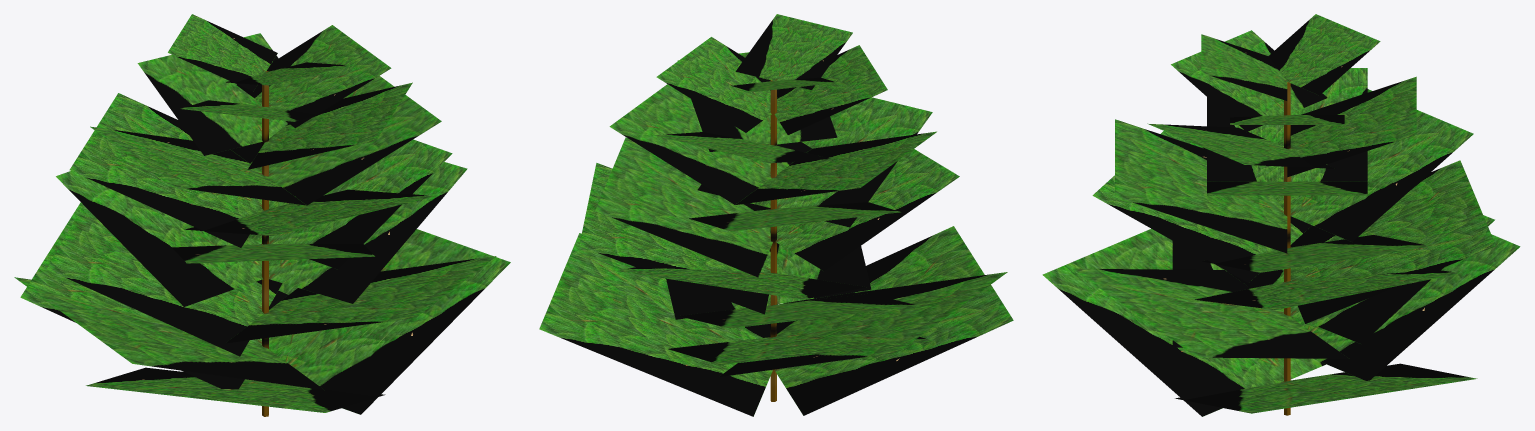
Rendered from small tree.fbx.
3 views of the same model, side by side, from view 1: azimuth 30°, elevation 25°; view 2: azimuth 150°, elevation 25°; view 3: azimuth 270°, elevation 25° (orthographic). The views are drawn at different scales.
Parts seen in each view (by area): view 1: SPUNK_Blad4, SP_Stam7; view 2: SPUNK_Blad4, SP_Stam7; view 3: SPUNK_Blad4, SP_Stam7.
Part boxes in pixels (bbox=[...]): SPUNK_Blad4: bbox=[14, 14, 510, 414]; SP_Stam7: bbox=[262, 71, 268, 416]; SPUNK_Blad4: bbox=[539, 14, 1013, 416]; SP_Stam7: bbox=[770, 80, 776, 401]; SPUNK_Blad4: bbox=[1042, 14, 1520, 416]; SP_Stam7: bbox=[1284, 82, 1290, 415].
Size of the model in its own units: 136 by 109 by 130.
